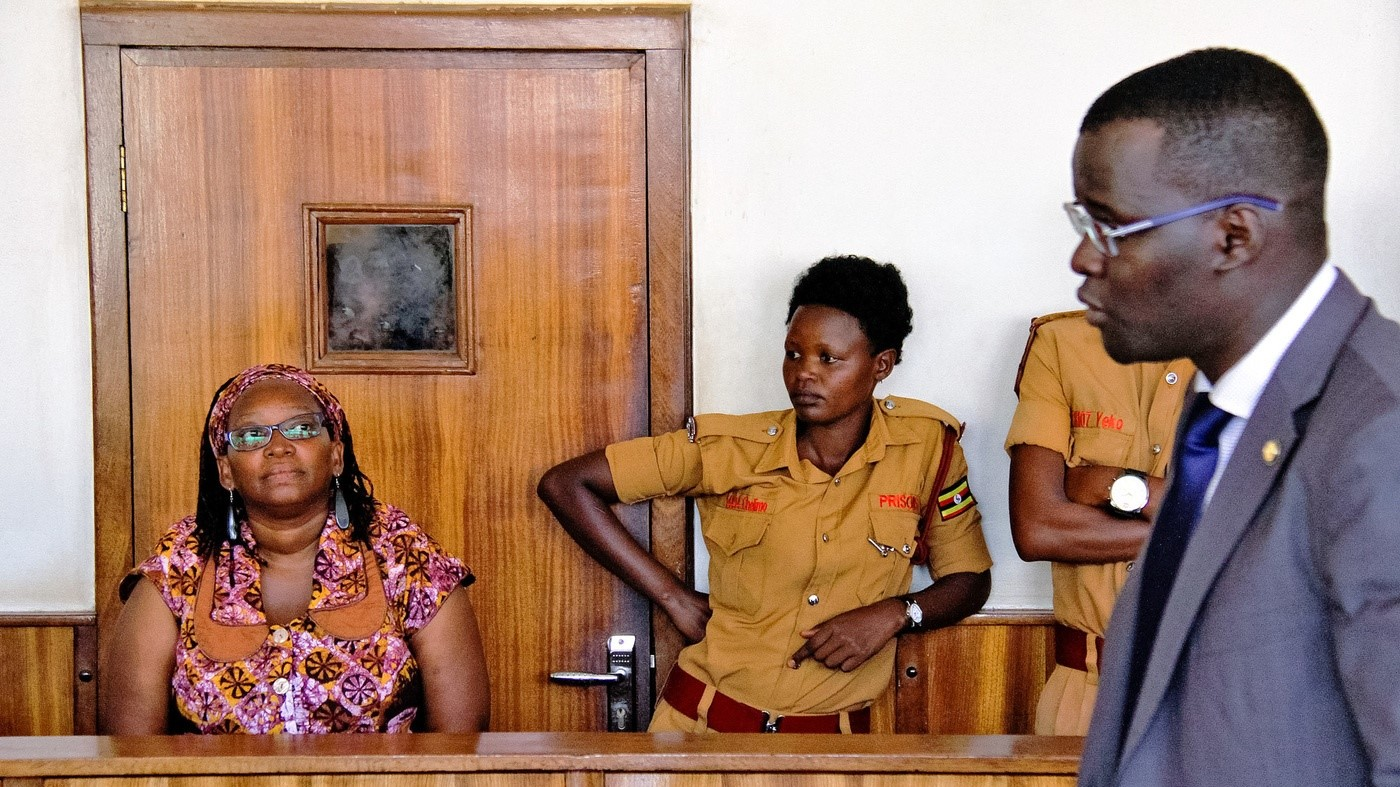face_no_mask: (1059, 86, 1281, 373), (783, 258, 912, 421), (214, 370, 346, 526)
